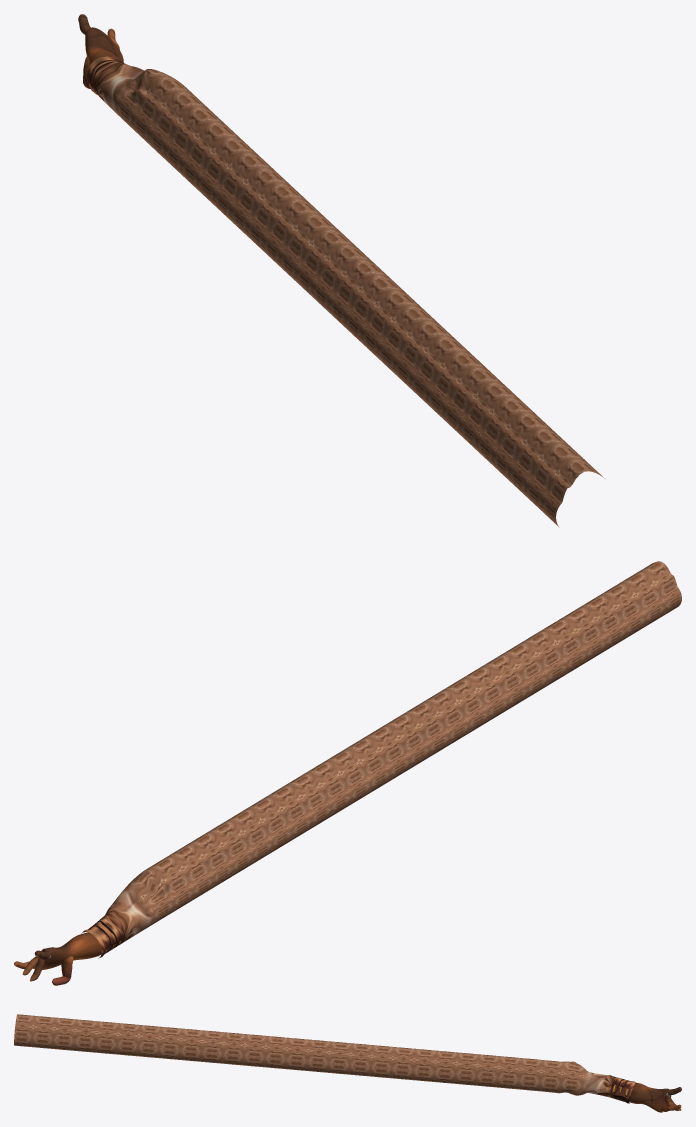
The model's file is rogue-grip-v4.glb.
The picture shows the model from 3 angles, top to bottom: view 1: azimuth 30°, elevation 25°; view 2: azimuth 150°, elevation 25°; view 3: azimuth 270°, elevation 25°; orthographic projection. The views are drawn at different scales.
Parts seen in each view (by area): view 1: rogue-card-grip; view 2: rogue-card-grip; view 3: rogue-card-grip.
Boxes of the visible parts, <box> form: rogue-card-grip: <box>78,14,604,527</box>; rogue-card-grip: <box>14,561,681,985</box>; rogue-card-grip: <box>14,1014,681,1112</box>.
Size of the model in its own units: 0.5225 by 0.2771 by 2.75.
3 materials, 2 textured.
